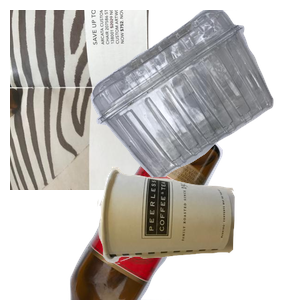glass: (67, 120, 282, 300)
paper: (10, 10, 250, 190)
plastic: (88, 10, 300, 180)
trash: (95, 164, 300, 300)
